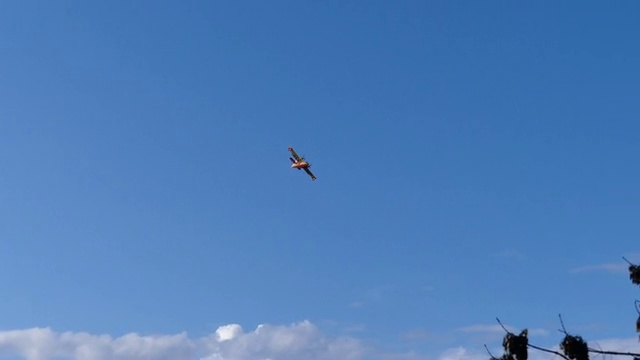plane: (288, 145, 318, 181)
